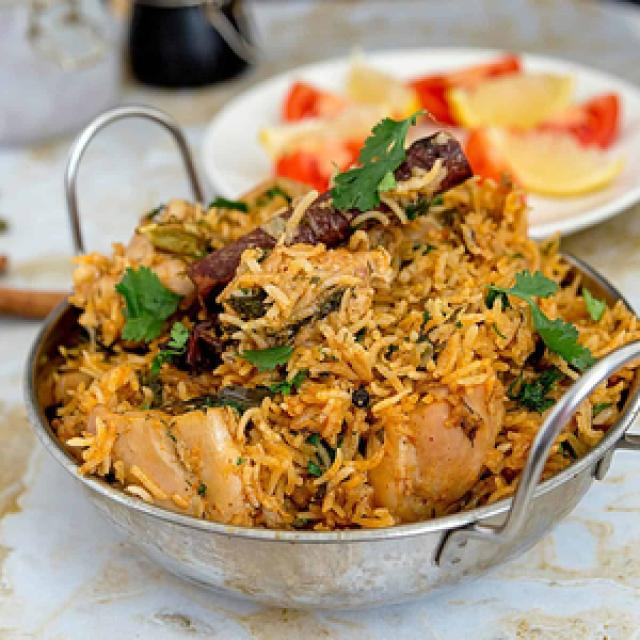chicken biriyani: (33, 130, 640, 552)
